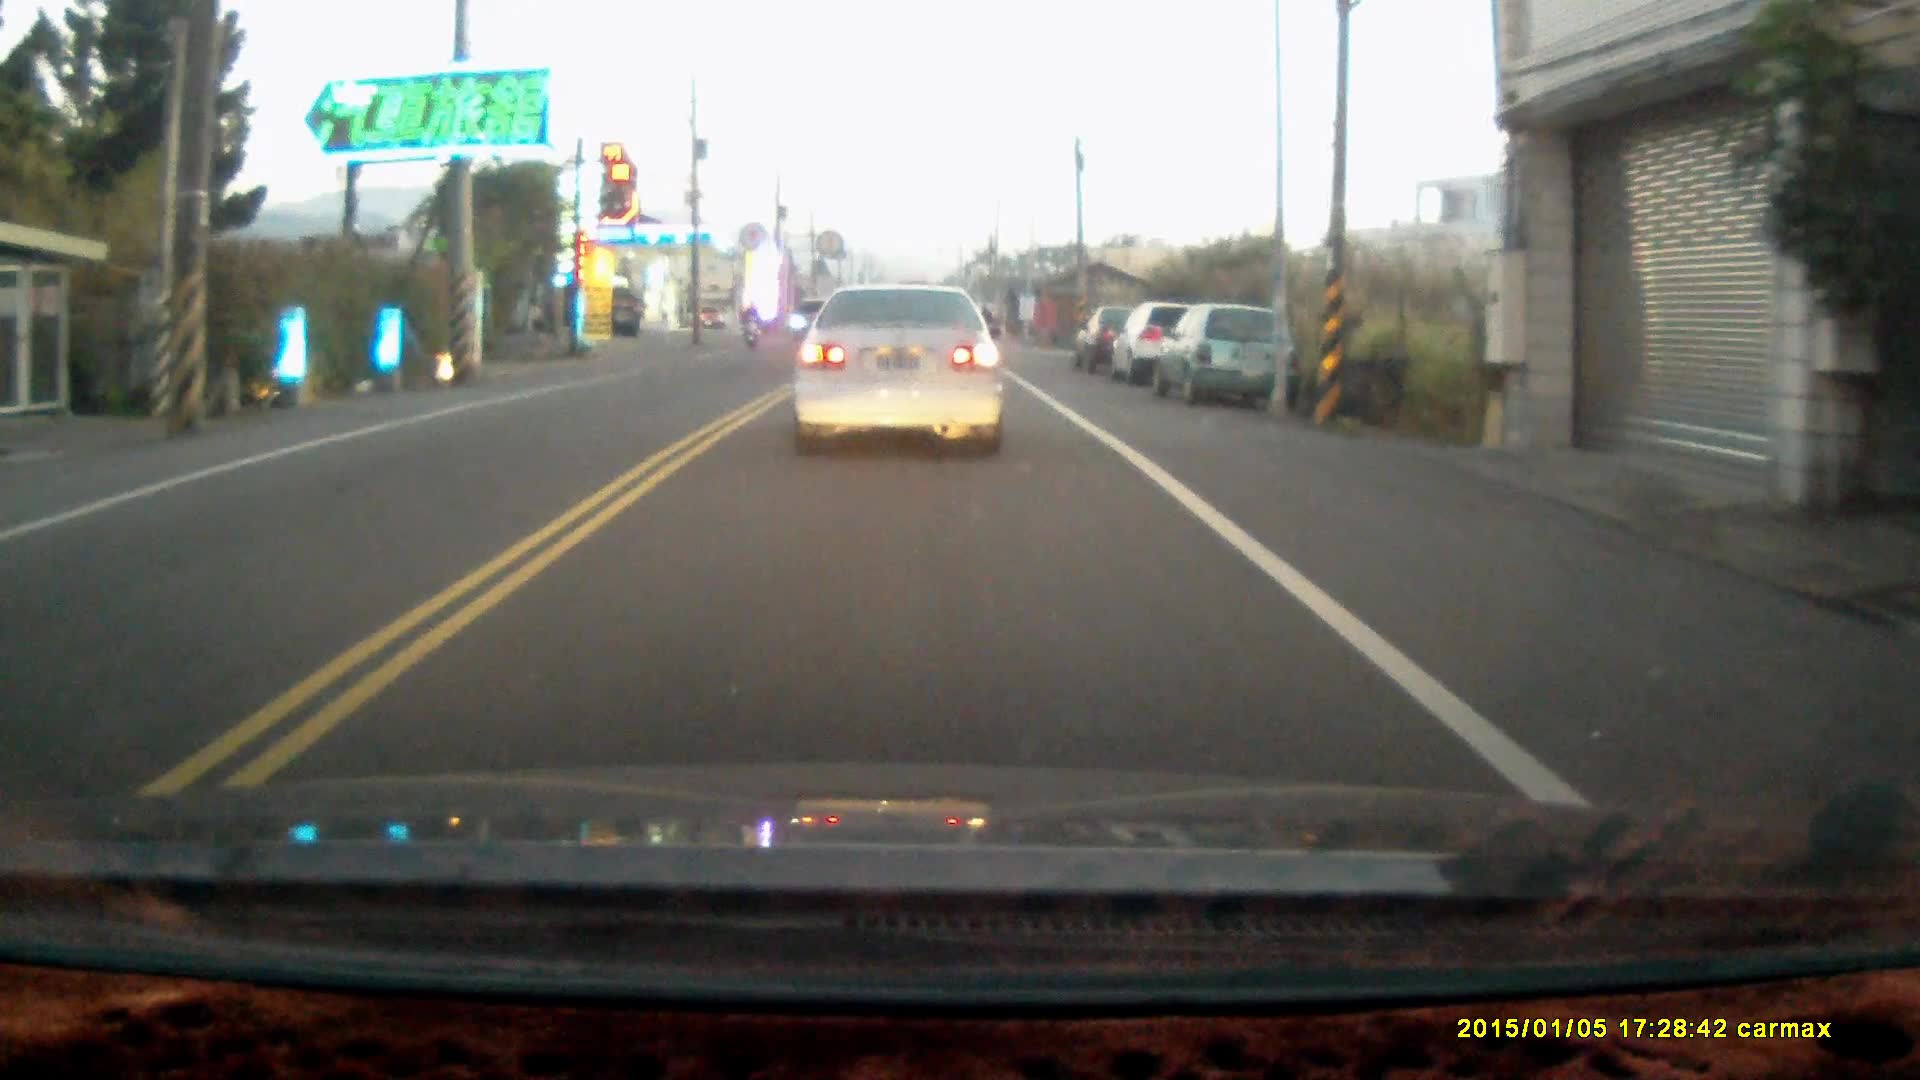rider: (739, 299, 760, 347)
vehicle: (786, 278, 1005, 461), (1162, 306, 1299, 404), (1117, 301, 1238, 387), (1075, 306, 1175, 376)
